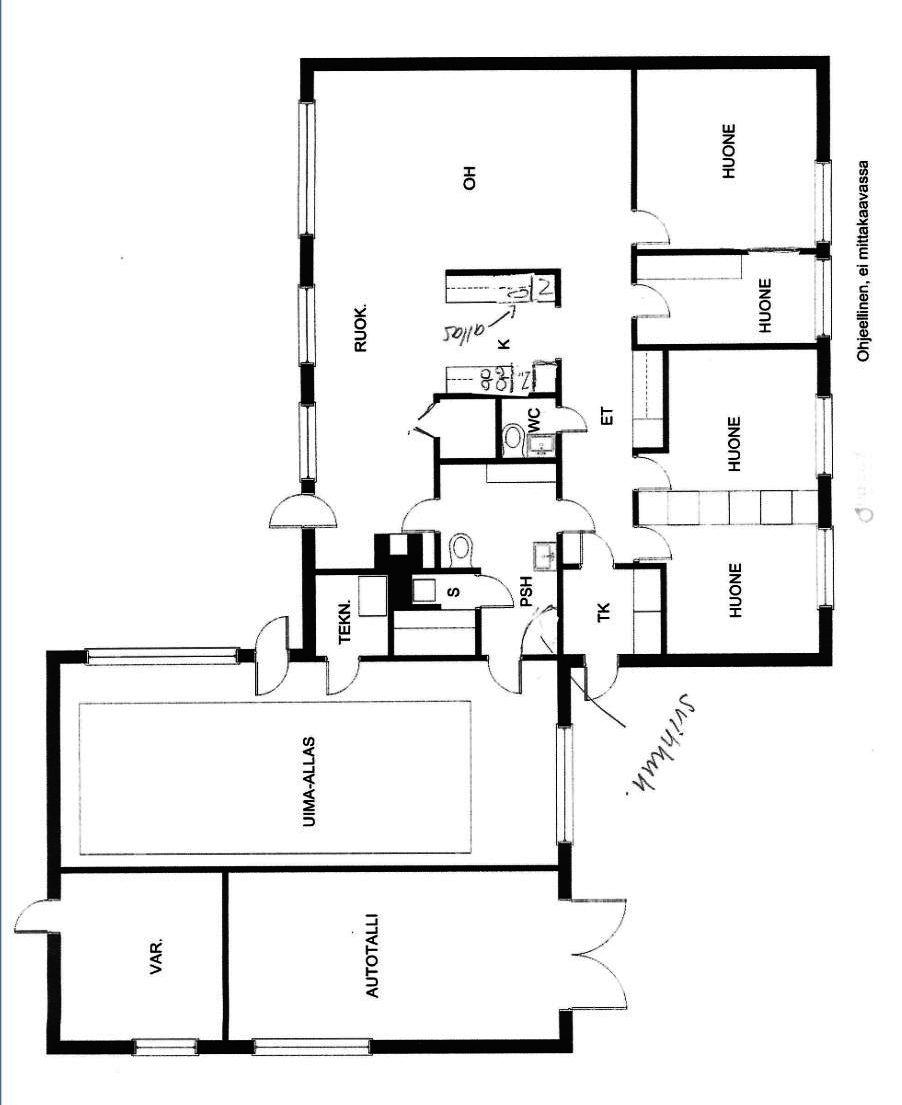bathroom: (440, 461, 554, 575), (500, 397, 559, 458)
door: (554, 950, 640, 1021), (555, 891, 628, 964), (7, 891, 65, 941), (262, 490, 314, 535), (574, 526, 620, 575), (323, 647, 363, 702), (251, 650, 294, 701), (626, 203, 671, 251), (482, 650, 523, 701), (303, 487, 345, 535), (253, 616, 296, 662), (623, 529, 674, 567), (393, 495, 440, 535), (552, 495, 599, 535), (628, 280, 672, 321), (629, 450, 671, 492), (551, 403, 589, 437)
perimeter: (44, 52, 838, 1060)
window: (291, 88, 331, 249), (74, 644, 251, 672), (546, 707, 580, 851), (242, 1031, 382, 1064), (293, 274, 326, 375), (119, 1030, 207, 1067), (294, 395, 325, 489), (811, 516, 838, 622), (811, 381, 837, 487), (808, 149, 835, 247), (811, 249, 838, 344)
